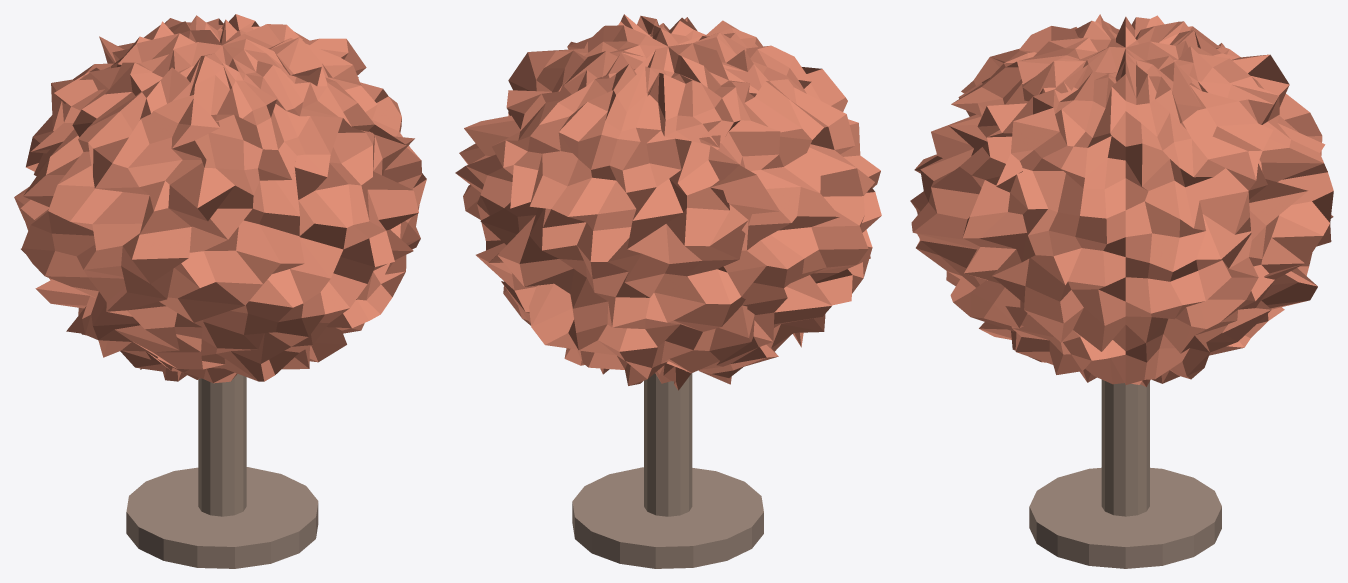
The model's file is maple.glb.
3 views of the same model, side by side, from view 1: azimuth 30°, elevation 25°; view 2: azimuth 150°, elevation 25°; view 3: azimuth 270°, elevation 25° (orthographic).
Visible parts, largest first — view 1: MapleMature_Crown, MapleMature_Base, MapleMature_Trunk.002; view 2: MapleMature_Crown, MapleMature_Base, MapleMature_Trunk.002; view 3: MapleMature_Crown, MapleMature_Base, MapleMature_Trunk.002.
Boxes of the visible parts, x1,y1,x2,y2 form: MapleMature_Crown: (14, 14, 426, 383); MapleMature_Base: (126, 467, 318, 568); MapleMature_Trunk.002: (198, 374, 246, 516); MapleMature_Crown: (455, 14, 881, 390); MapleMature_Base: (572, 467, 763, 568); MapleMature_Trunk.002: (644, 373, 692, 516); MapleMature_Crown: (910, 14, 1333, 386); MapleMature_Base: (1029, 467, 1221, 568); MapleMature_Trunk.002: (1101, 379, 1149, 516).
Bounding box in the file's own units: 1.85 × 2.25 × 1.76.
